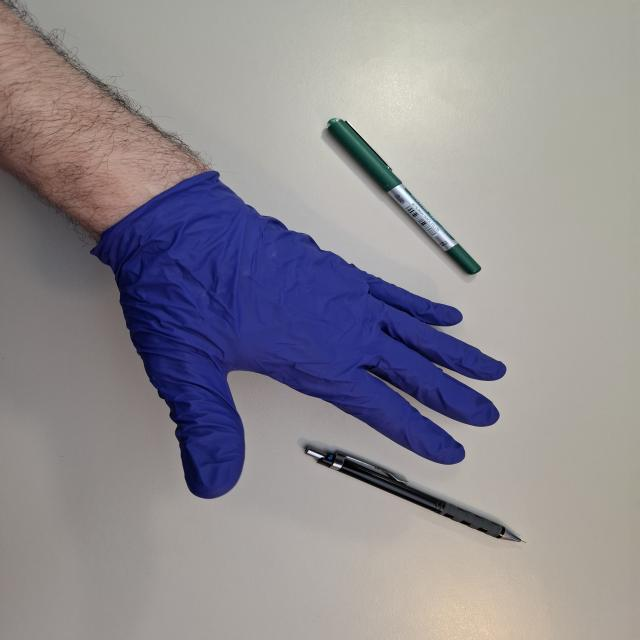glove_on: (87, 165, 518, 501)
